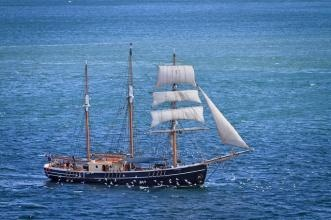fanchuan: (37, 45, 253, 184)
